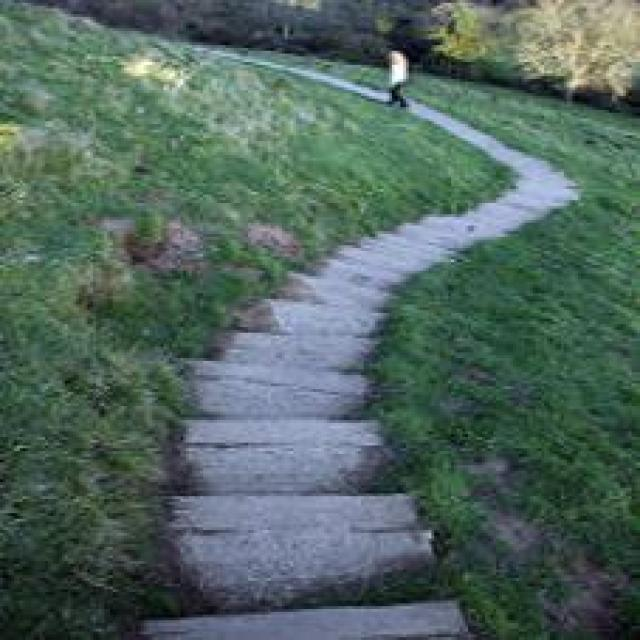downstair: (156, 393, 421, 548)
